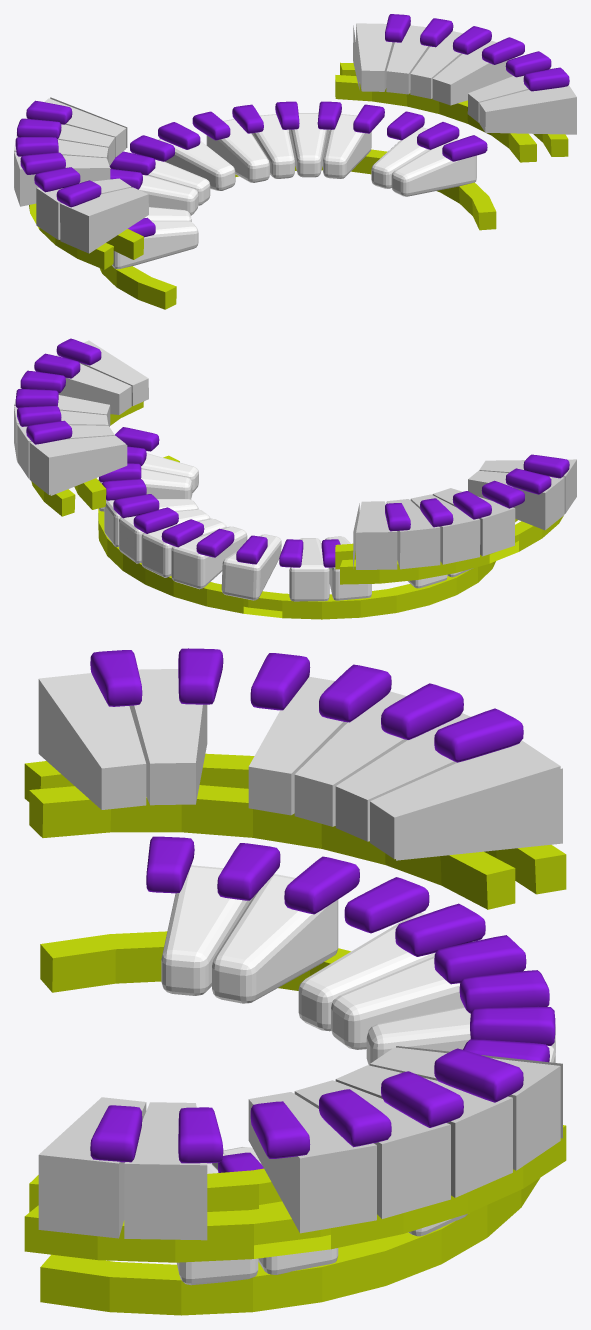
The model's file is [calculate] 1403_keyboard_Unfairy.fbx.
3 renders of one model, top to bottom at view 1: azimuth 30°, elevation 25°; view 2: azimuth 150°, elevation 25°; view 3: azimuth 270°, elevation 25°, orthographic. The views are drawn at different scales.
Parts seen in each view (by area): view 1: half keys, full keys, top layer semitones, semitone, bracket top 02, bracket btm 01, bracket top 01; view 2: half keys, full keys, top layer semitones, bracket btm 01, semitone, bracket top 01, bracket top 02; view 3: half keys, full keys, top layer semitones, bracket btm 01, semitone, bracket top 01, bracket top 02.
Part boxes in pixels (box(x1,y1,x2,y2)): half keys: box(14, 23, 576, 253); full keys: box(112, 113, 476, 269); top layer semitones: box(15, 14, 569, 207); semitone: box(109, 101, 487, 237); bracket top 02: box(106, 75, 536, 259); bracket btm 01: box(99, 149, 496, 309); bracket top 01: box(29, 62, 568, 269); half keys: box(14, 340, 576, 569); full keys: box(98, 453, 473, 601); top layer semitones: box(15, 338, 569, 531); bracket btm 01: box(98, 455, 495, 619); semitone: box(99, 427, 340, 567); bracket top 01: box(31, 481, 563, 584); bracket top 02: box(74, 401, 517, 569); half keys: box(38, 669, 562, 1240); full keys: box(161, 865, 555, 1285); top layer semitones: box(90, 648, 523, 1163); bracket btm 01: box(40, 931, 539, 1315); semitone: box(146, 836, 555, 1172); bracket top 01: box(24, 753, 566, 1262); bracket top 02: box(29, 785, 515, 1212).
Bounding box in the file's own units: 1118 × 261 × 515.
